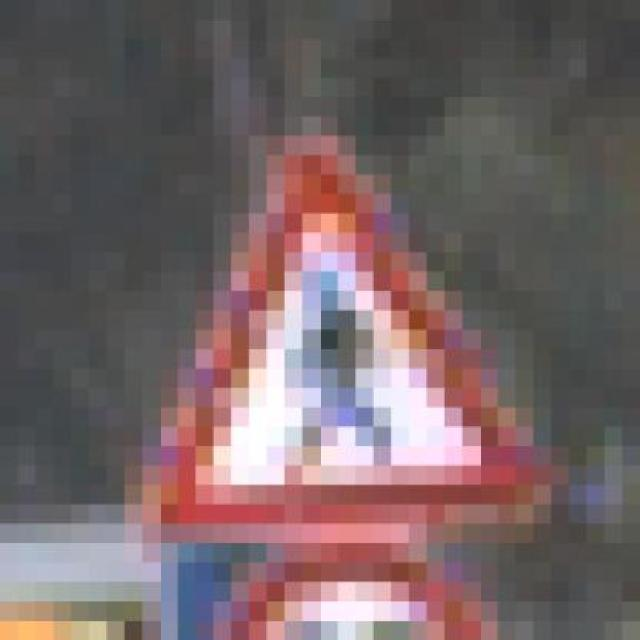Pedestrian Crossing: (107, 97, 551, 543)
